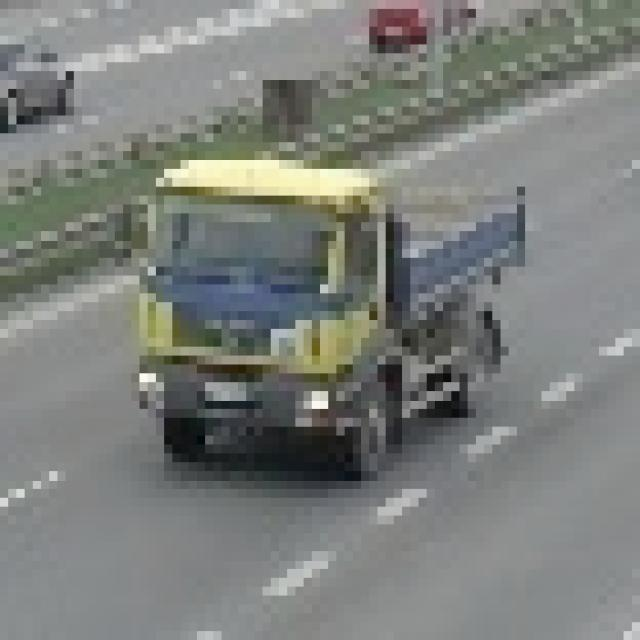truck: (108, 134, 518, 472)
